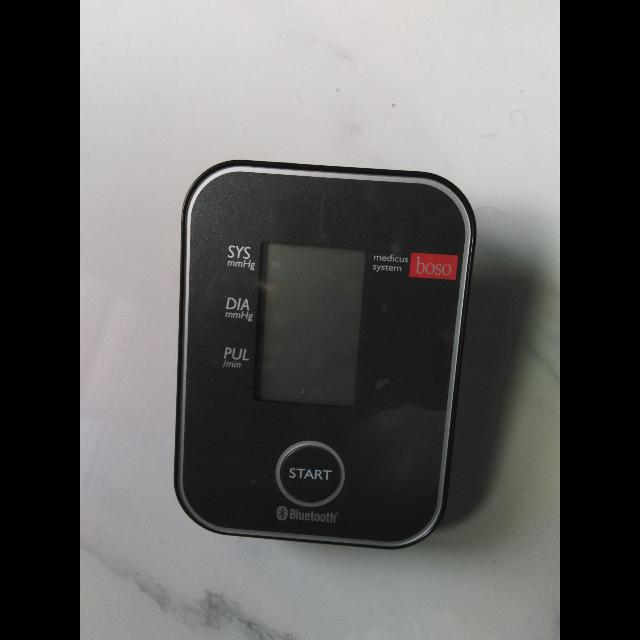Blood-Pressure-Monitor: (170, 142, 470, 556)
